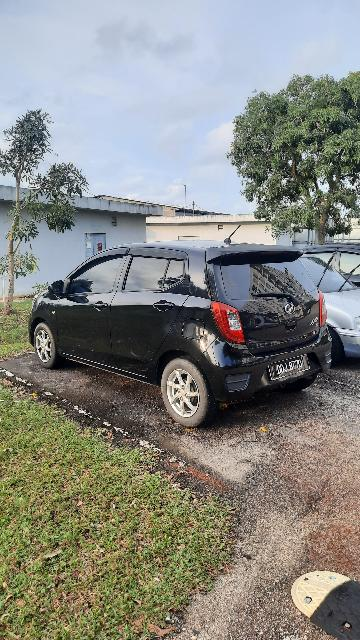License_Plate: (266, 348, 319, 383)
car: (20, 239, 347, 431)
